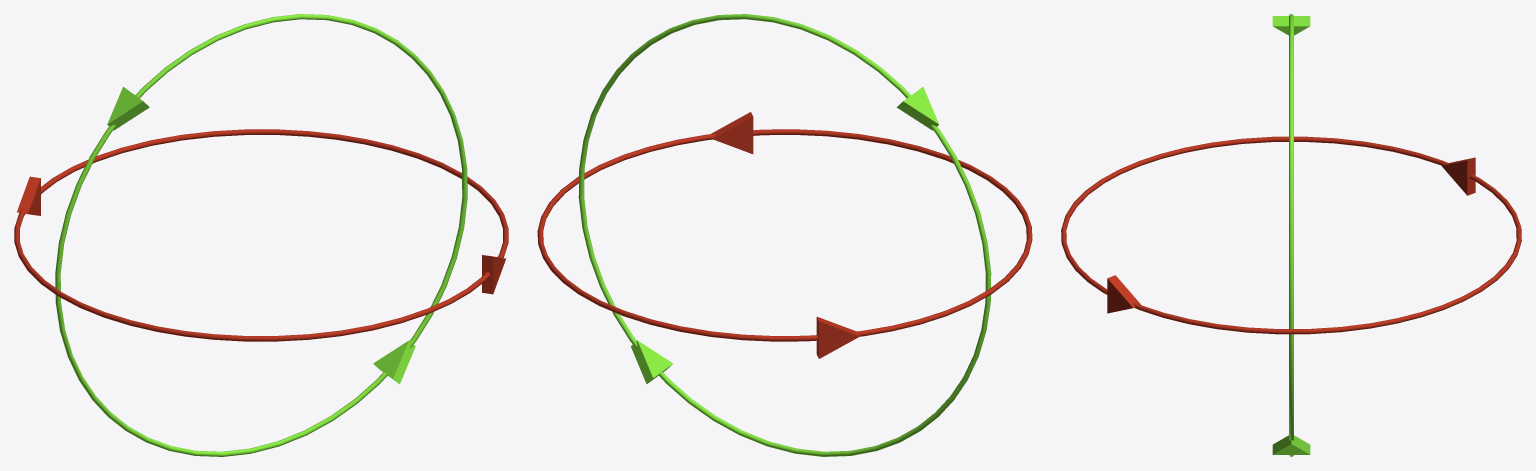
Rendered from arrow-gizmo-v3.fbx.
3 renders of one model, left to right at view 1: azimuth 30°, elevation 25°; view 2: azimuth 150°, elevation 25°; view 3: azimuth 270°, elevation 25°, orthographic. The views are drawn at different scales.
Visible parts, largest first — view 1: Y-R-Gizmo, X-R-Gizmo; view 2: Y-R-Gizmo, X-R-Gizmo; view 3: X-R-Gizmo, Y-R-Gizmo.
Boxes of the visible parts, x1,y1,x2,y2 form: Y-R-Gizmo: [55, 14, 467, 456]; X-R-Gizmo: [14, 129, 508, 341]; Y-R-Gizmo: [578, 14, 991, 456]; X-R-Gizmo: [537, 112, 1032, 358]; X-R-Gizmo: [1061, 136, 1521, 334]; Y-R-Gizmo: [1272, 14, 1310, 456].
Bounding box in the file's own units: 202 × 194 × 202.
